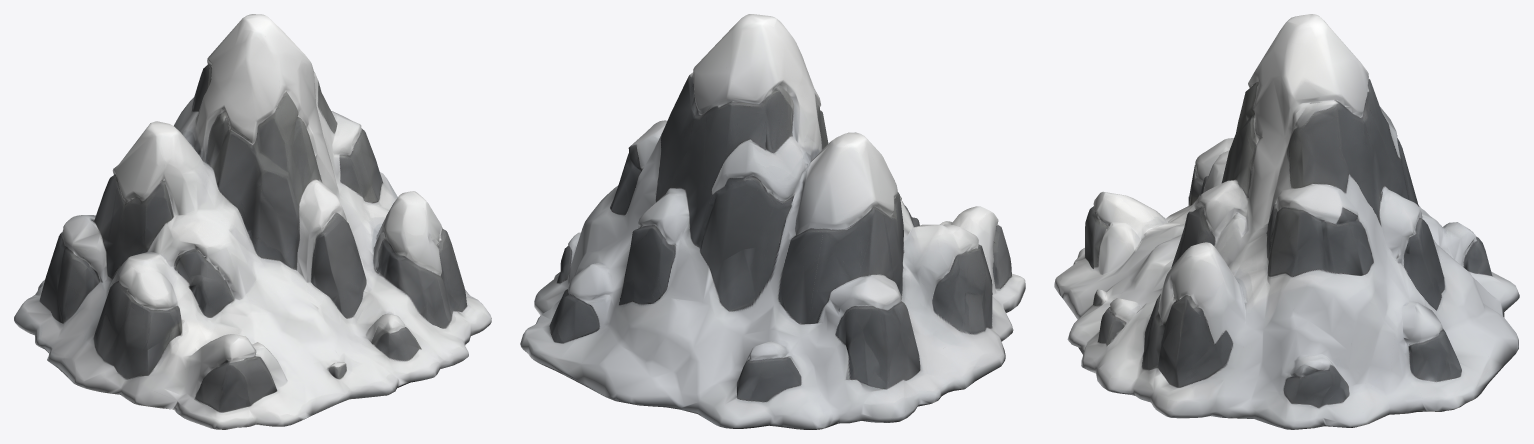
Rendered from Meshy_AI_Snowbound_Summit_0519051541_texture.fbx.
3 renders of one model, left to right at view 1: azimuth 30°, elevation 25°; view 2: azimuth 150°, elevation 25°; view 3: azimuth 270°, elevation 25°, orthographic. The views are drawn at different scales.
Parts seen in each view (by area): view 1: Mesh_0.001; view 2: Mesh_0.001; view 3: Mesh_0.001.
Boxes of the visible parts, left/top/right/bottom form: Mesh_0.001: left=14, top=14, right=491, bottom=429; Mesh_0.001: left=520, top=14, right=1025, bottom=429; Mesh_0.001: left=1054, top=14, right=1519, bottom=429.
Bounding box in the file's own units: 140 × 100 × 135.
Materials: 1 (1 with a texture image).
